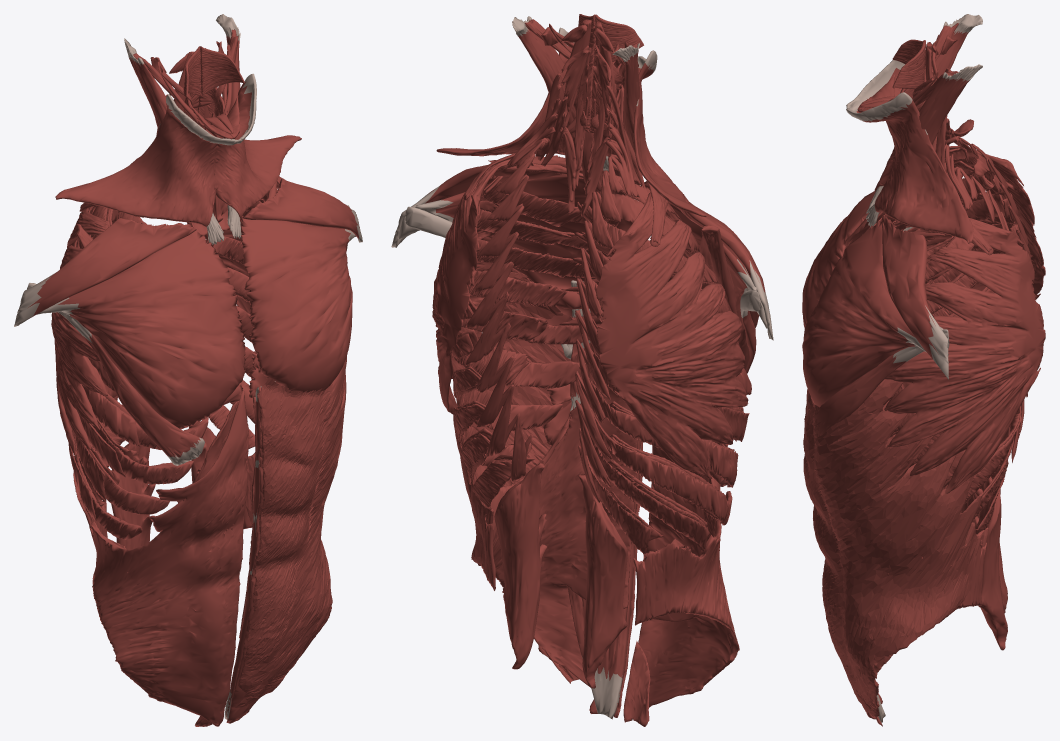
Rendered from muscles-2.glb.
The picture shows the model from 3 angles, left to right: view 1: azimuth 30°, elevation 25°; view 2: azimuth 150°, elevation 25°; view 3: azimuth 270°, elevation 25°; orthographic projection. The views are drawn at different scales.
Visible parts, largest first — view 1: Internal_abdominal_oblique_muscler, External_abdominal_oblique_musclel, Sternocostal_head_of_pectoralis_major_muscler, Sternocostal_head_of_pectoralis_major_musclel, Platysmar, Clavicular_head_of_pectoralis_major_muscler, Platysmal, Serratus_anterior_muscler, Internal_intercostal_musclesr, External_intercostal_musclesr, (Abdominal_part_of_pectoralis_major_muscle)r, Clavicular_head_of_pectoralis_major_musclel (+10 smaller); view 2: Serratus_anterior_muscler, Internal_abdominal_oblique_muscler, Internal_abdominal_oblique_musclel, External_intercostal_musclesr, Innermost_intercostal_musclesl, Internal_intercostal_musclesl, Levatores_longi_costaruml, Quadratus_lumborum_musclel, Serratus_anterior_musclel, Levatores_longi_costarumr, Quadratus_lumborum_muscler, External_abdominal_oblique_musclel (+26 smaller); view 3: External_abdominal_oblique_musclel, Serratus_anterior_musclel, Sternocostal_head_of_pectoralis_major_musclel, Platysmal, Clavicular_head_of_pectoralis_major_musclel, Internal_intercostal_musclesl, Sternocostal_head_of_pectoralis_major_muscler, Quadratus_lumborum_musclel, Serratus_anterior_muscler, (Abdominal_part_of_pectoralis_major_muscle)l, Sternocleidomastoid_musclel, Innermost_intercostal_musclesr (+10 smaller).
Boxes of the visible parts, box(x1,y1,x2,y2) form: Internal_abdominal_oblique_muscler: box(89, 390, 249, 726); External_abdominal_oblique_musclel: box(235, 371, 346, 707); Sternocostal_head_of_pectoralis_major_muscler: box(36, 230, 245, 429); Sternocostal_head_of_pectoralis_major_musclel: box(240, 218, 355, 392); Platysmar: box(55, 94, 238, 226); Clavicular_head_of_pectoralis_major_muscler: box(14, 217, 196, 326); Platysmal: box(214, 73, 301, 218); Serratus_anterior_muscler: box(51, 205, 143, 456); Internal_intercostal_musclesr: box(73, 208, 208, 539); External_intercostal_musclesr: box(68, 205, 146, 528); (Abdominal_part_of_pectoralis_major_muscle)r: box(27, 283, 204, 465); Clavicular_head_of_pectoralis_major_musclel: box(242, 178, 362, 242); Serratus_anterior_muscler: box(596, 192, 748, 478); Internal_abdominal_oblique_muscler: box(624, 440, 739, 719); Internal_abdominal_oblique_musclel: box(470, 382, 643, 717); External_intercostal_musclesr: box(579, 171, 751, 553); Innermost_intercostal_musclesl: box(454, 176, 581, 482); Internal_intercostal_musclesl: box(451, 176, 619, 507); Levatores_longi_costaruml: box(465, 139, 543, 481); Quadratus_lumborum_musclel: box(494, 460, 547, 669); Serratus_anterior_musclel: box(432, 159, 533, 414); Levatores_longi_costarumr: box(575, 156, 623, 502); Quadratus_lumborum_muscler: box(578, 474, 627, 688); External_abdominal_oblique_musclel: box(453, 272, 642, 683); External_abdominal_oblique_musclel: box(803, 379, 988, 716); Serratus_anterior_musclel: box(884, 218, 1045, 493); Sternocostal_head_of_pectoralis_major_musclel: box(802, 222, 948, 406); Platysmal: box(846, 92, 973, 243); Clavicular_head_of_pectoralis_major_musclel: box(881, 215, 948, 379); Internal_intercostal_musclesl: box(891, 237, 1021, 530); Sternocostal_head_of_pectoralis_major_muscler: box(802, 191, 874, 328); Quadratus_lumborum_musclel: box(972, 476, 1007, 650); Serratus_anterior_muscler: box(907, 148, 1045, 298); (Abdominal_part_of_pectoralis_major_muscle)l: box(813, 329, 949, 436); Sternocleidomastoid_musclel: box(866, 64, 982, 227); Innermost_intercostal_musclesr: box(878, 161, 1015, 343).
Size of the model in its own units: 0.4003 by 0.7257 by 0.2367.
